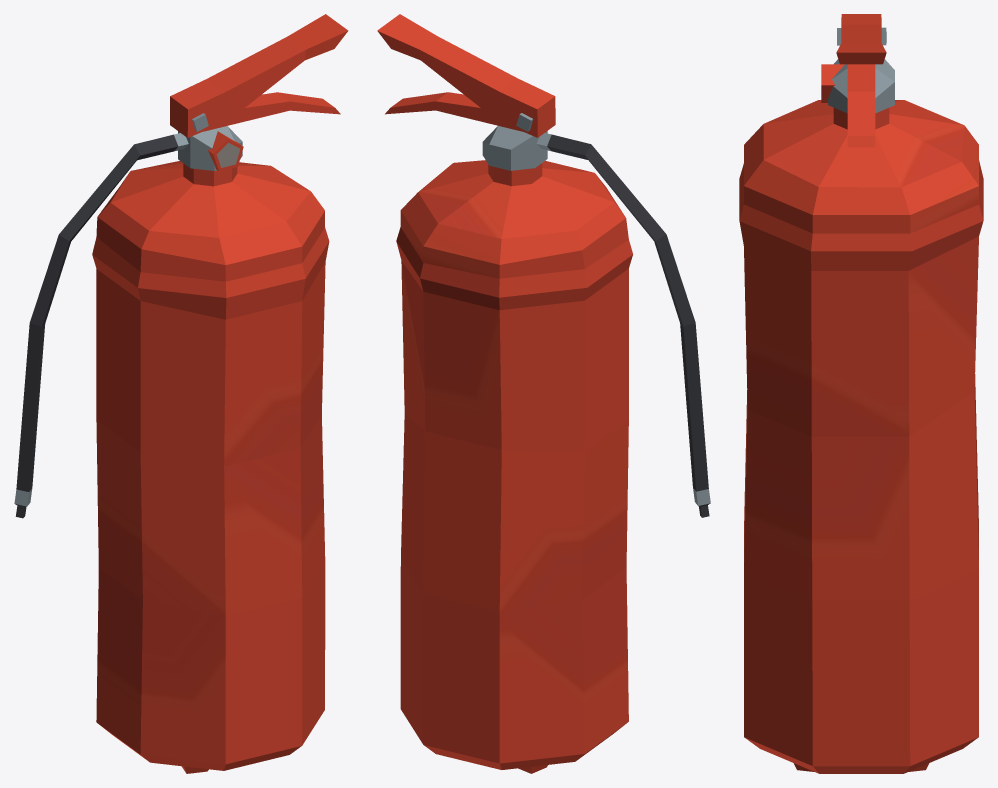
Rendered from SM_Fire_Extinguisher.fbx.
The picture shows the model from 3 angles, left to right: view 1: azimuth 30°, elevation 25°; view 2: azimuth 150°, elevation 25°; view 3: azimuth 270°, elevation 25°; orthographic projection. The views are drawn at different scales.
Visible parts, largest first — view 1: SM_Fire_Extinguisher; view 2: SM_Fire_Extinguisher; view 3: SM_Fire_Extinguisher.
Part boxes in pixels (<box>): SM_Fire_Extinguisher: <box>14,14,348,773</box>; SM_Fire_Extinguisher: <box>377,14,710,773</box>; SM_Fire_Extinguisher: <box>739,14,983,773</box>.
Bounding box in the file's own units: 35.52 × 72.48 × 21.08.
